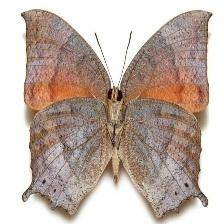butterfly: (22, 10, 212, 218)
